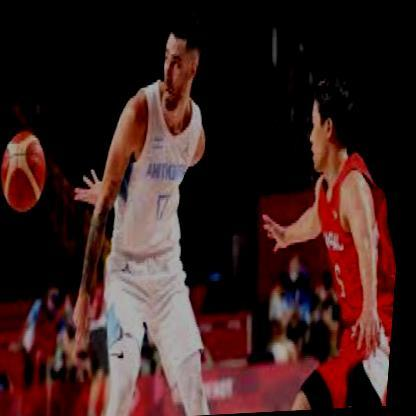basketball: (0, 129, 53, 216)
